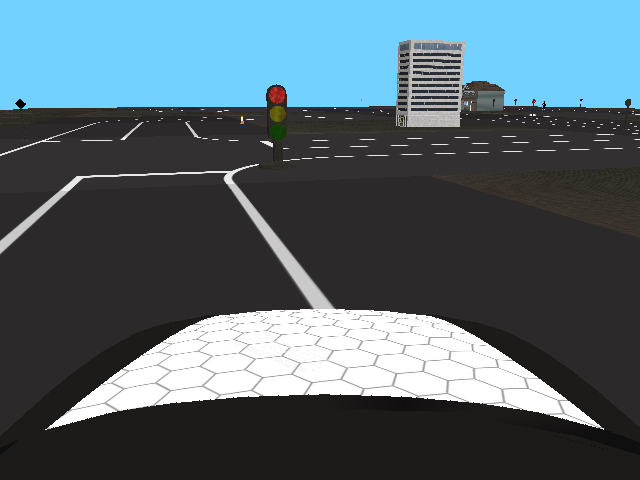red_light: (265, 84, 288, 142)
